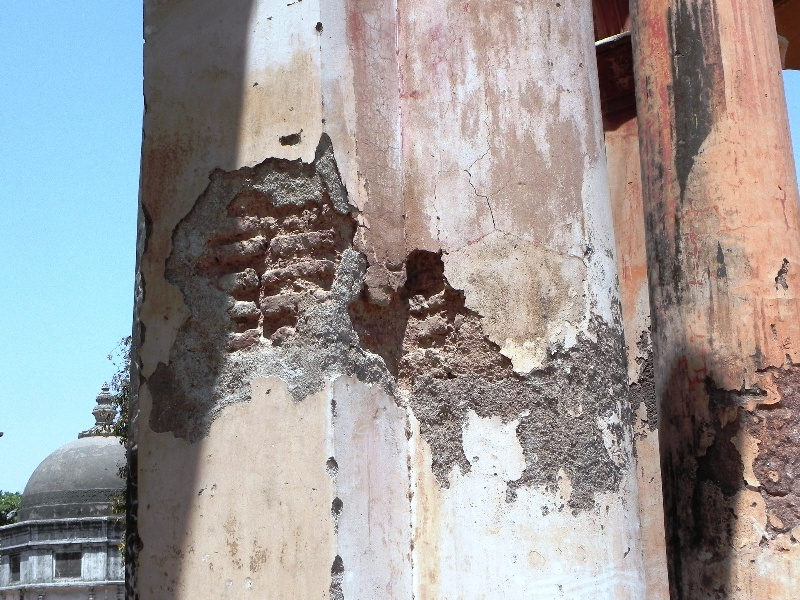Exposed Bricks: (211, 198, 328, 333)
Spalling: (345, 216, 652, 510), (682, 337, 800, 555)
